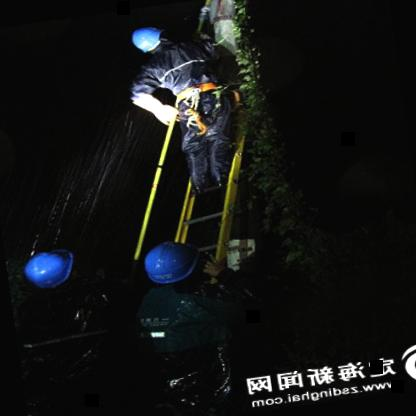helmet: (138, 239, 204, 292), (21, 246, 80, 291), (124, 20, 170, 57)
